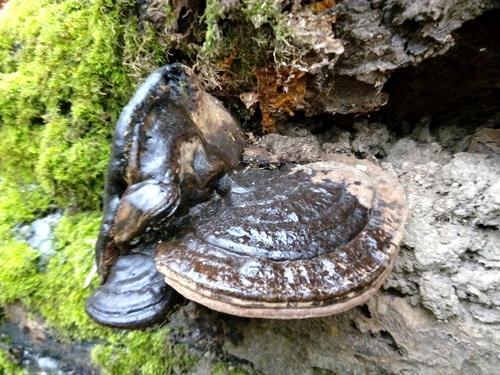Ganoderma - Fruit Body: (94, 62, 409, 336)
